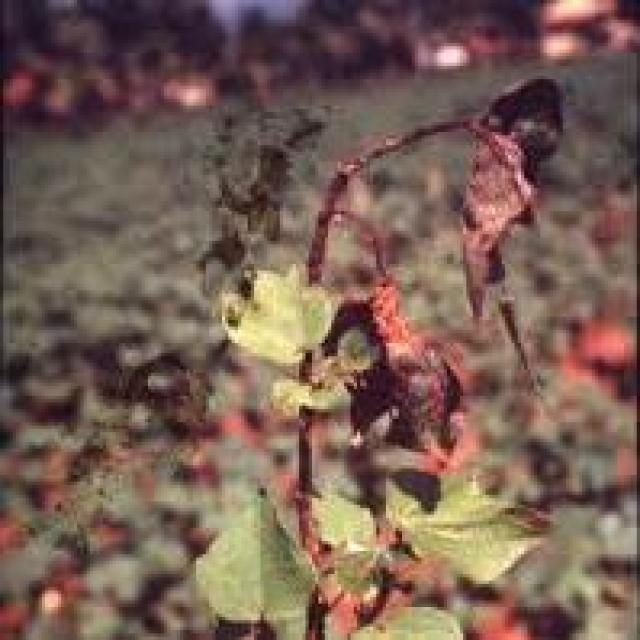Fusarium Wilt: (166, 79, 558, 640)
